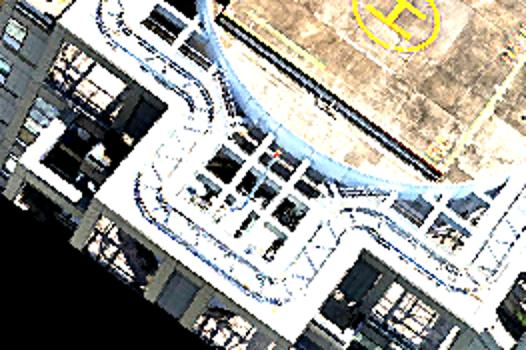Apron: (343, 1, 447, 58)
